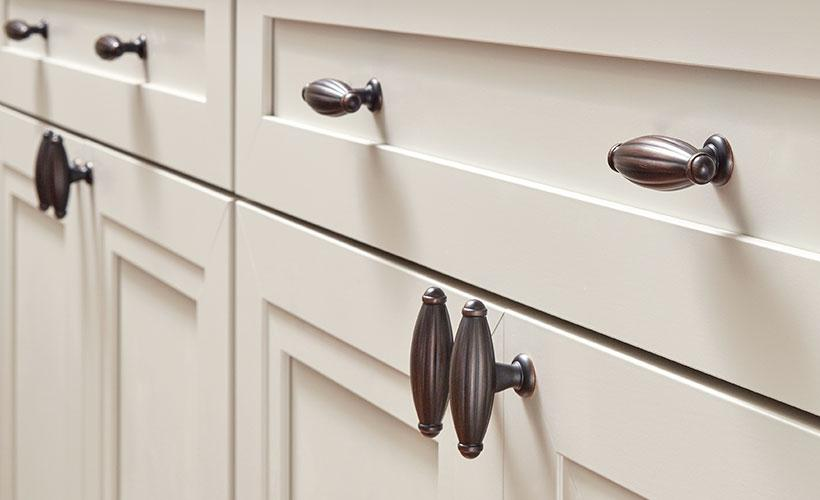cabinet_door: (274, 42, 813, 239), (65, 149, 220, 500), (259, 262, 473, 500), (482, 327, 735, 500), (2, 15, 223, 124), (10, 130, 72, 500)
handle: (381, 282, 456, 444), (453, 290, 509, 466), (602, 140, 750, 196), (31, 123, 76, 230), (279, 80, 390, 114), (83, 29, 155, 64), (7, 18, 54, 40)
